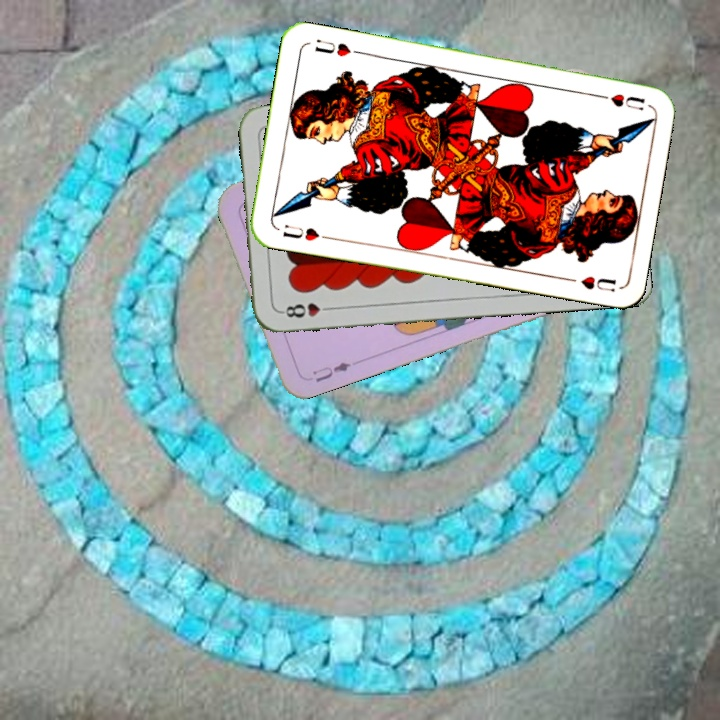EU: (308, 357, 354, 385)
H8: (277, 299, 336, 320)
HU: (591, 89, 648, 113), (279, 221, 333, 244)
